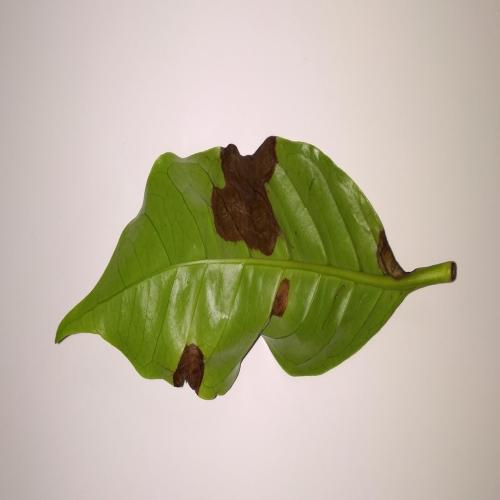miner: (211, 137, 281, 255)
